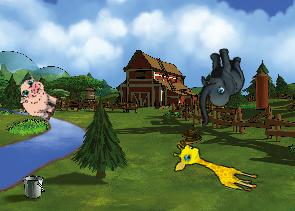elephant: (182, 44, 255, 126)
giraffe: (168, 140, 263, 194)
pig: (11, 73, 65, 125)
